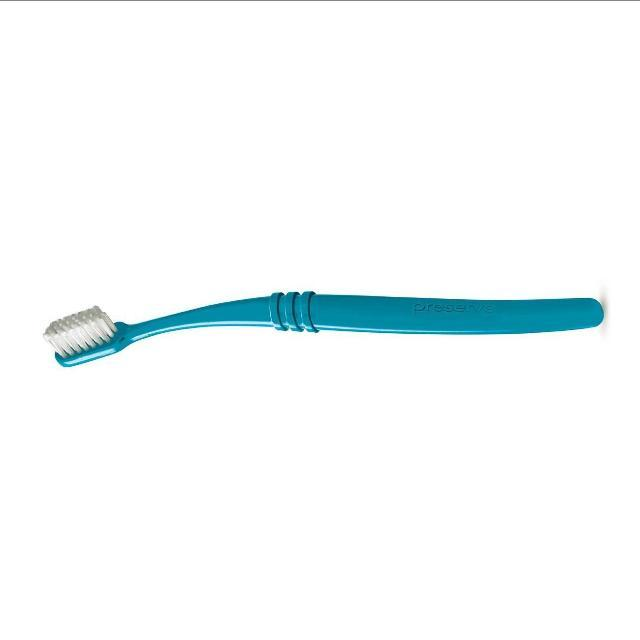toothbrush: (29, 276, 626, 398)
